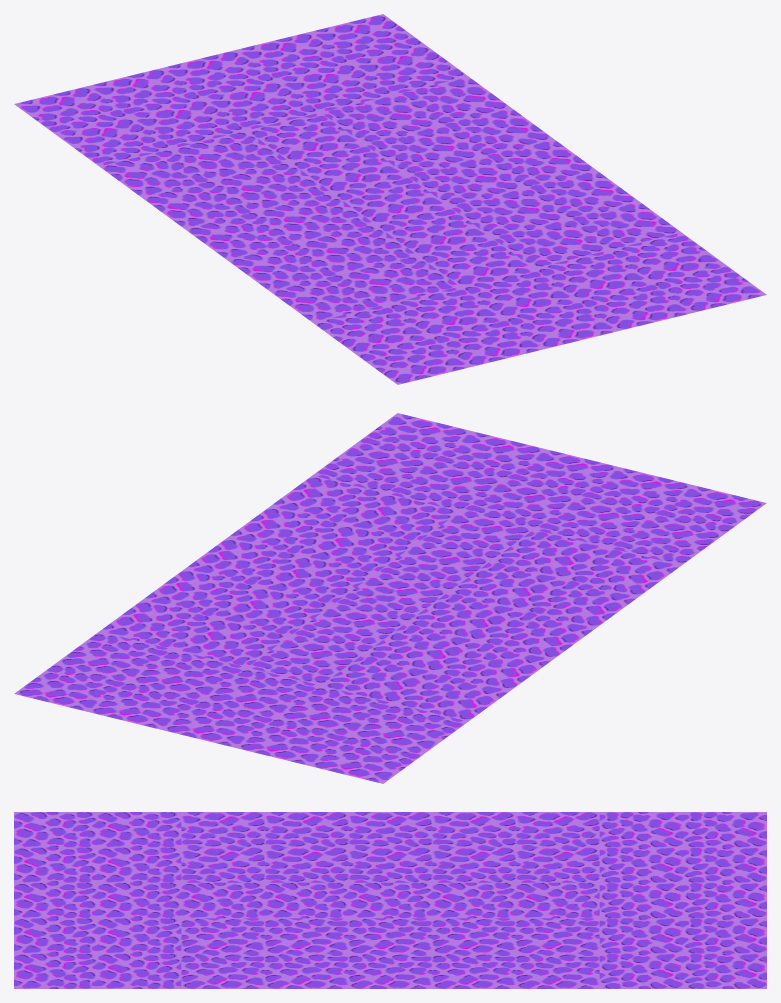
The model's file is level_zone01_gas-liquid-huge.fbx.
The picture shows the model from 3 angles, top to bottom: view 1: azimuth 30°, elevation 25°; view 2: azimuth 150°, elevation 25°; view 3: azimuth 270°, elevation 25°; orthographic projection.
Parts seen in each view (by area): view 1: level_zone01_dark-block; view 2: level_zone01_dark-block; view 3: level_zone01_dark-block.
Part boxes in pixels (x1,y1,x2,y2): level_zone01_dark-block: [14, 14, 766, 384]; level_zone01_dark-block: [14, 413, 766, 783]; level_zone01_dark-block: [14, 812, 766, 988].
Bounding box in the file's own units: 500 × 0.000147 × 900.
